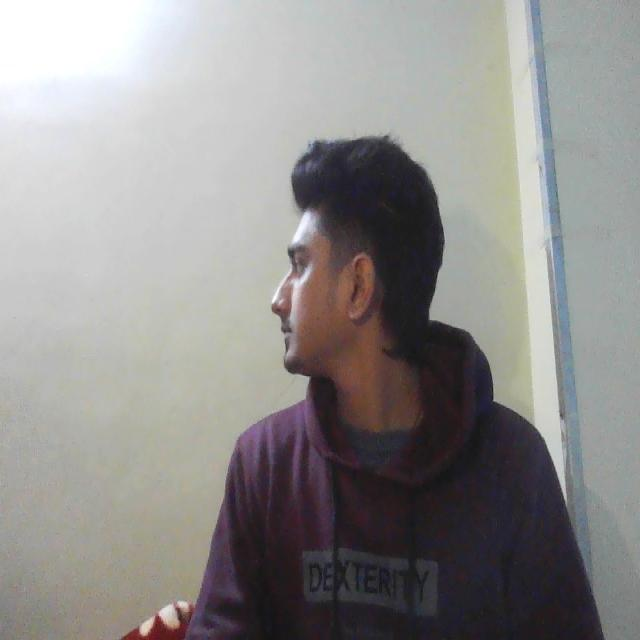real: (279, 170, 389, 378)
